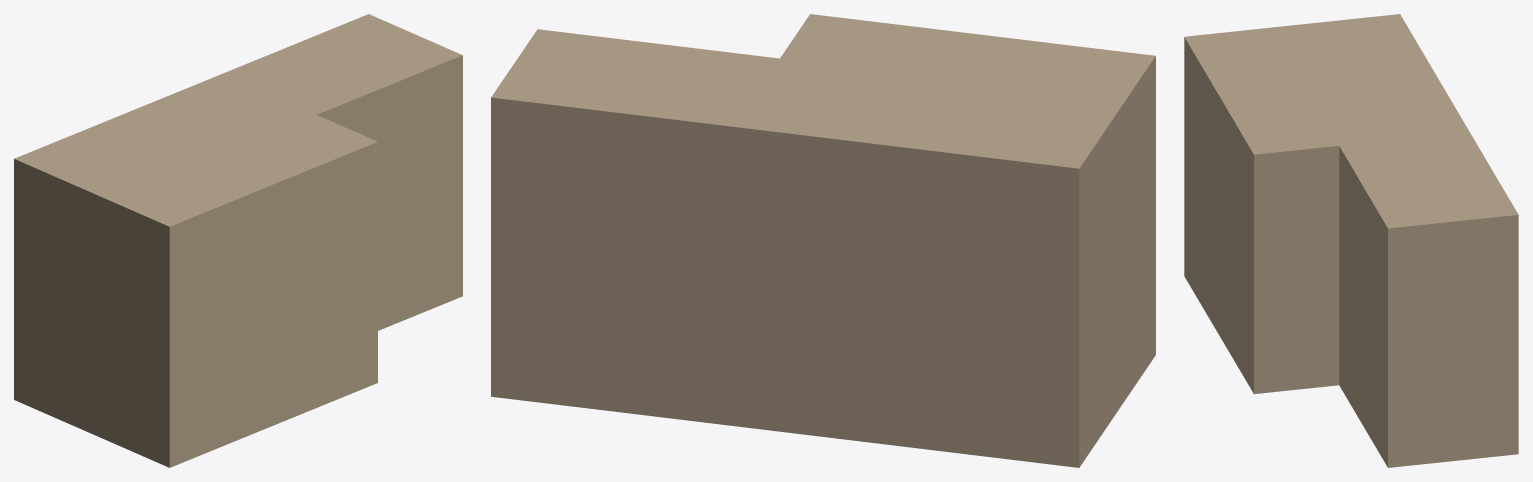
File: bld_107716176.dae
The picture shows the model from 3 angles, left to right: view 1: azimuth 30°, elevation 25°; view 2: azimuth 150°, elevation 25°; view 3: azimuth 270°, elevation 25°; orthographic projection. The views are drawn at different scales.
Parts seen in each view (by area): view 1: bld_107716176; view 2: bld_107716176; view 3: bld_107716176.
Part boxes in pixels (x1,y1,x2,y2): bld_107716176: (14,14,462,467); bld_107716176: (491,14,1155,467); bld_107716176: (1184,14,1518,467).
Size of the model in its own units: 15.37 by 10.12 by 8.
